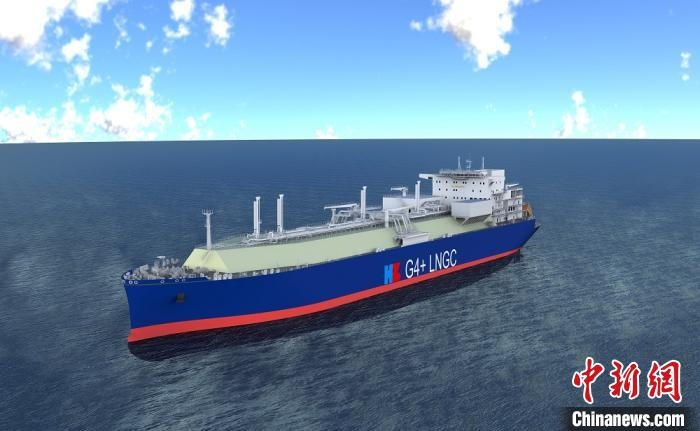Cargoship: (118, 154, 537, 348)
